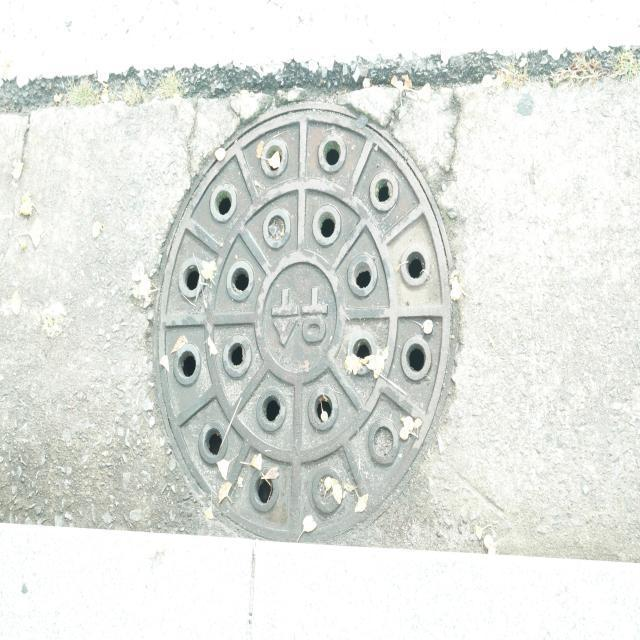manhole: (156, 104, 451, 540)
